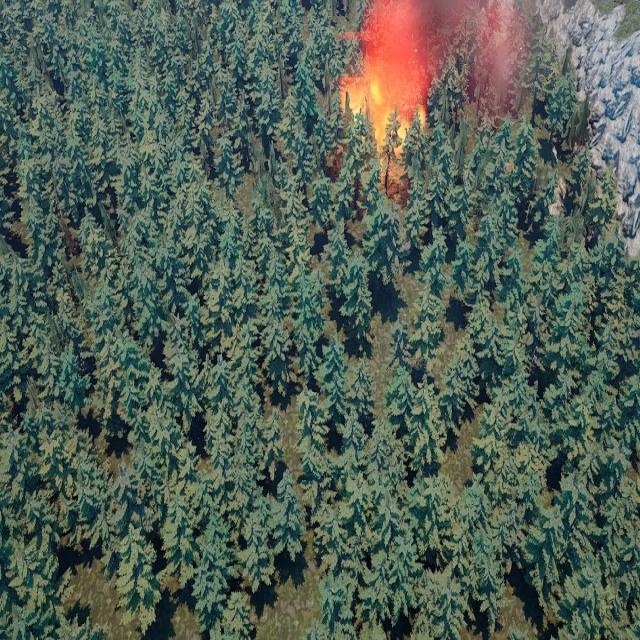fire: (341, 72, 428, 158)
smoke: (351, 0, 542, 127)
